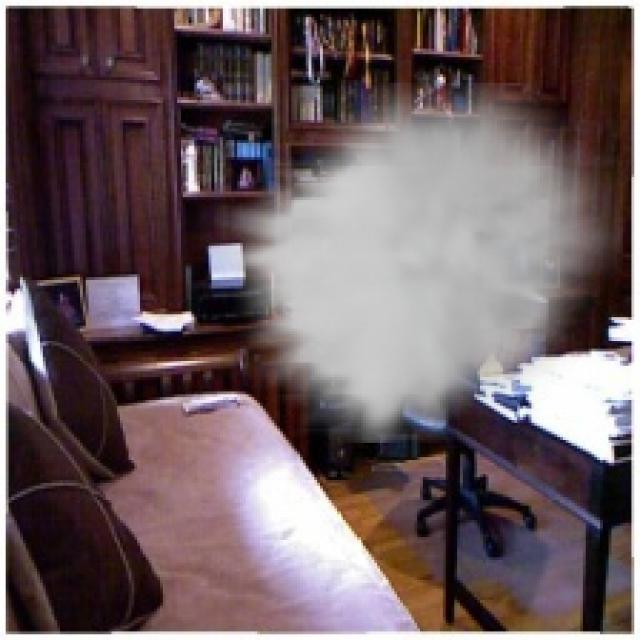Smoke: (214, 83, 623, 443)
